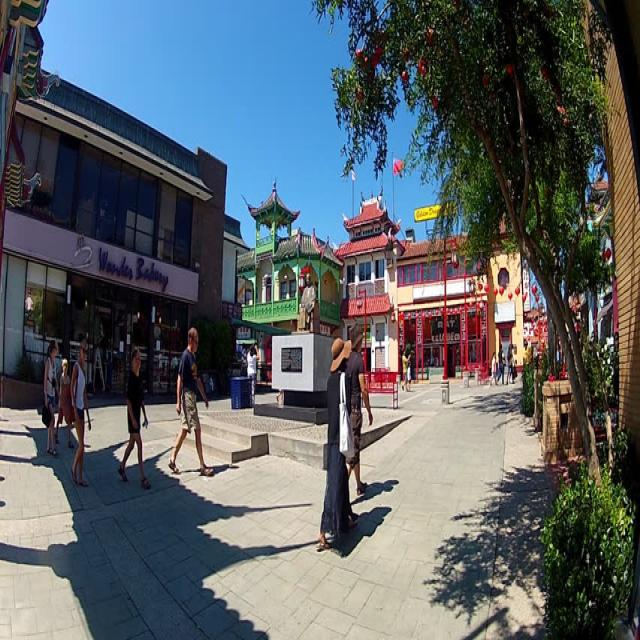body: (315, 336, 360, 551), (167, 322, 215, 478), (344, 320, 372, 500), (116, 347, 151, 489), (68, 335, 92, 488), (39, 337, 61, 460), (52, 355, 74, 449), (348, 476, 399, 503), (296, 269, 316, 332), (244, 343, 260, 408), (495, 342, 506, 386), (400, 346, 412, 386), (22, 286, 34, 326), (505, 341, 515, 387), (240, 341, 248, 395), (510, 344, 517, 385), (490, 351, 498, 386), (423, 353, 439, 368), (406, 360, 412, 393)
